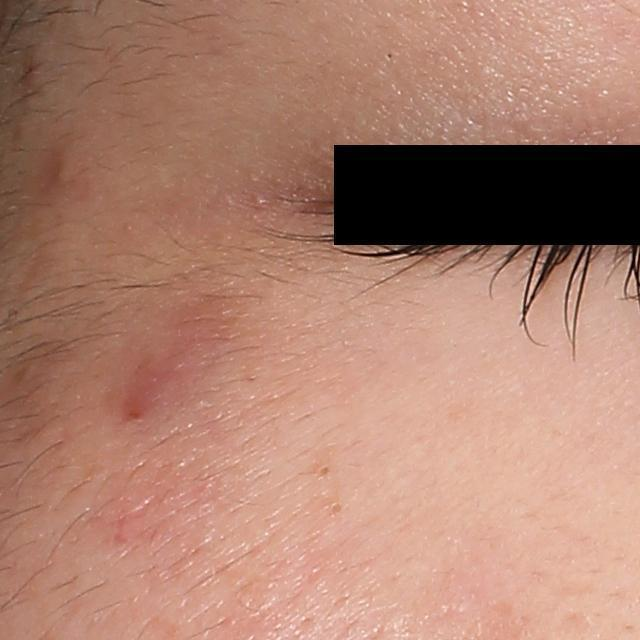comedo: (316, 461, 330, 479)
papule: (51, 156, 73, 187)
